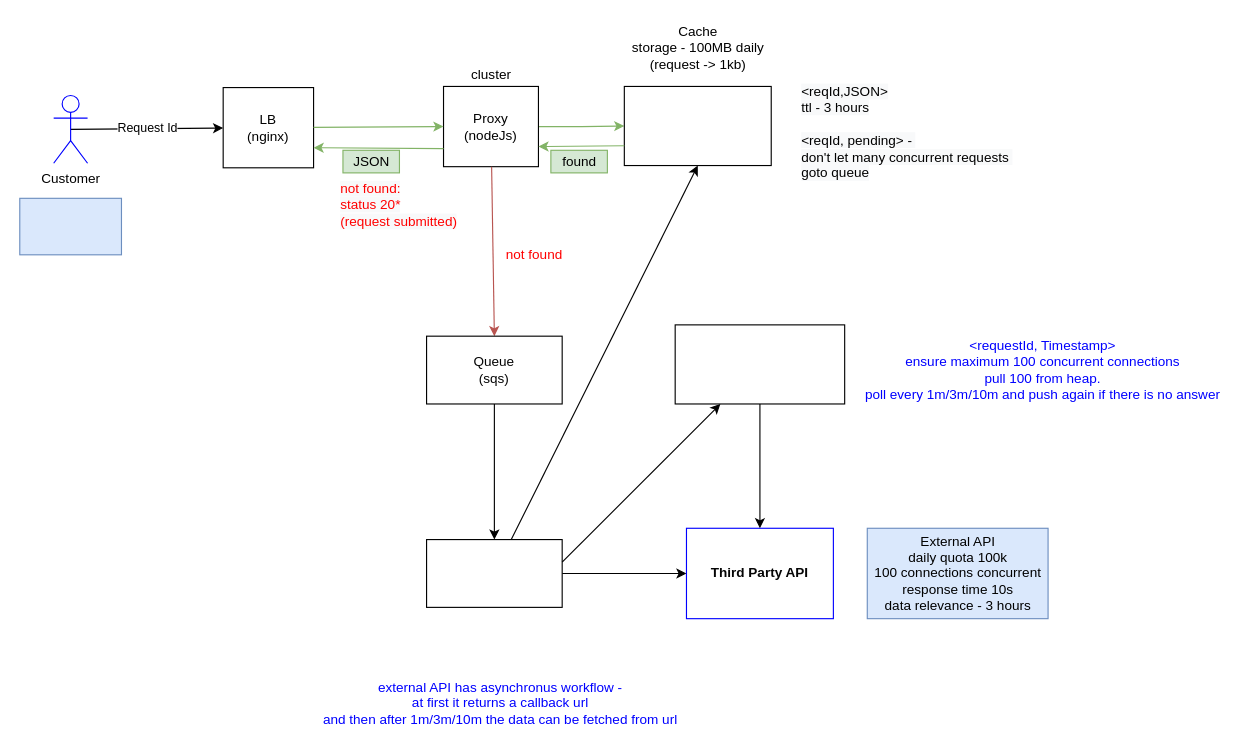
Image size: 1249x750. Some labels were removed from this diagram. Each missing label, with the centre of its shape:
"API 100 RPM SLA < 100ms" belongs at (x=70, y=226).
"Cache (redis)" belongs at (x=697, y=125).
"Queue (priorityQueue)" belongs at (x=759, y=364).
"Worker (nodejs)" belongs at (x=493, y=572).
